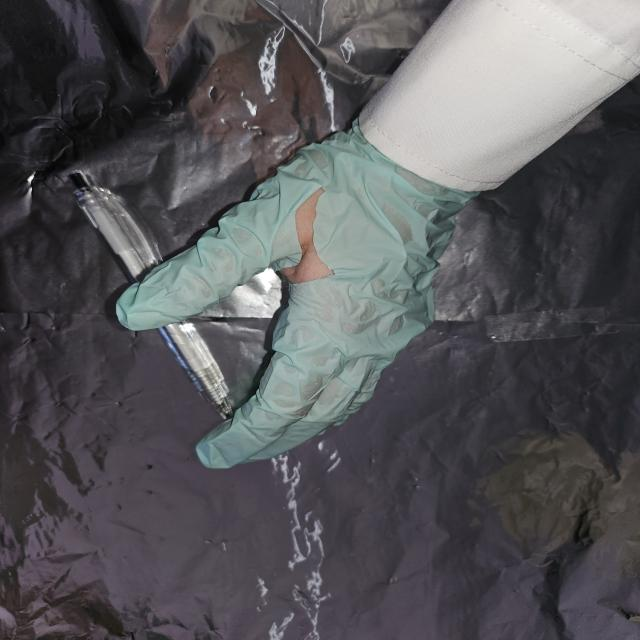gloves_damaged: (113, 115, 487, 469)
